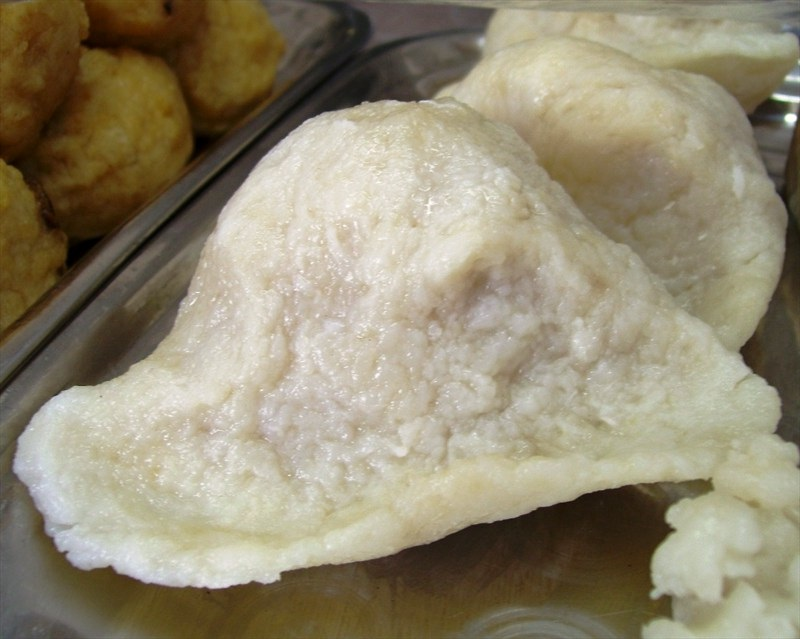Pempek: (67, 84, 653, 587)
